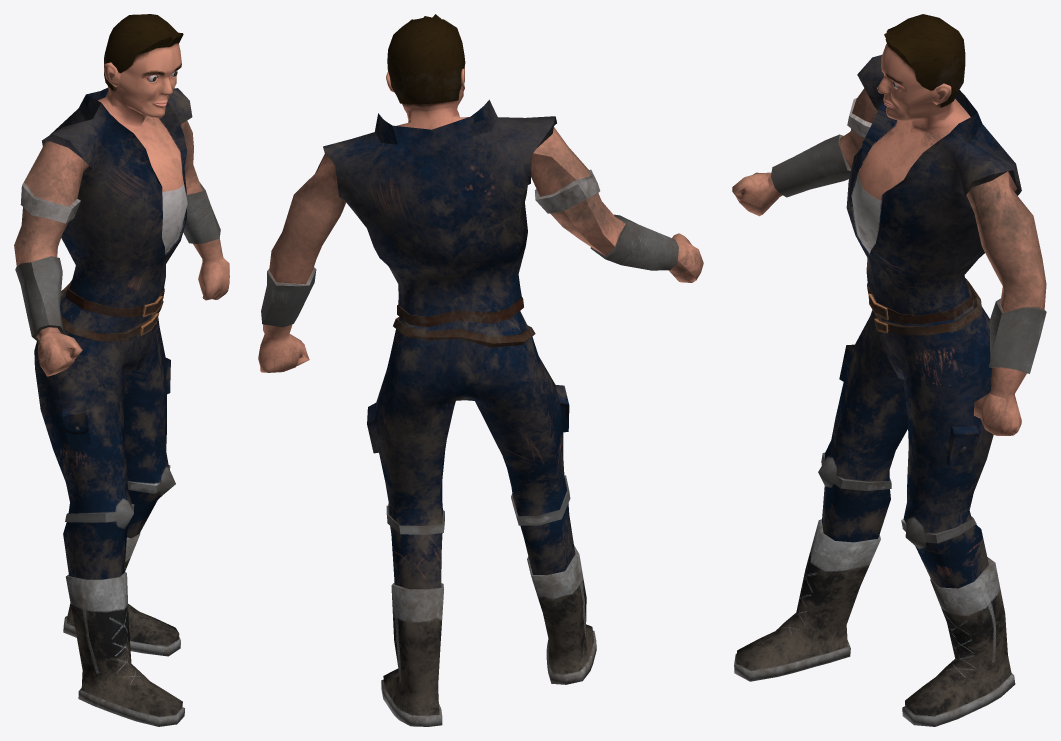
Rendered from Anim_interruptor_jugador.0032.obj.
The picture shows the model from 3 angles, left to right: view 1: azimuth 30°, elevation 25°; view 2: azimuth 150°, elevation 25°; view 3: azimuth 270°, elevation 25°; orthographic projection. The views are drawn at different scales.
Parts seen in each view (by area): view 1: polySurface1; view 2: polySurface1; view 3: polySurface1.
Boxes of the visible parts, <box> form: polySurface1: <box>14,14,229,726</box>; polySurface1: <box>258,14,703,726</box>; polySurface1: <box>732,14,1046,726</box>.
Bounding box in the file's own units: 4.74 × 9.53 × 3.94.
